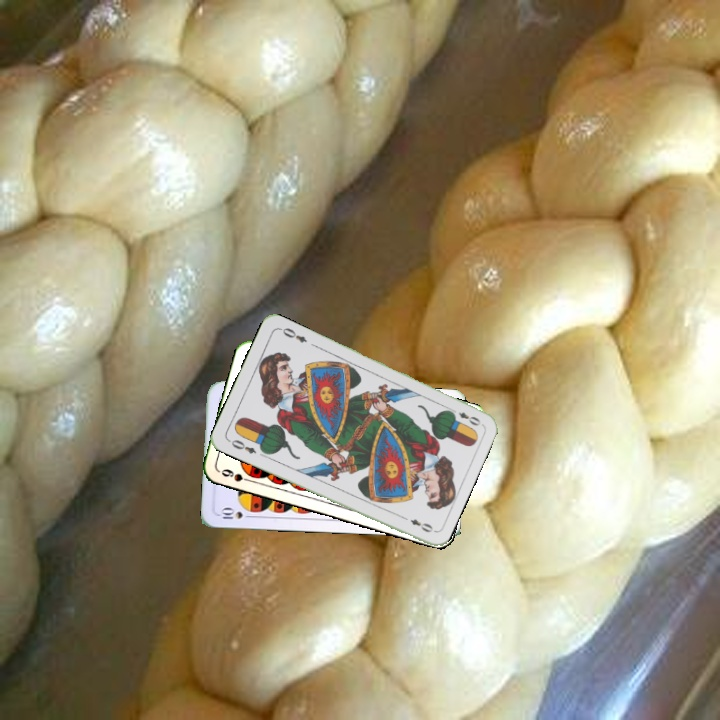EO: (445, 405, 483, 428), (224, 436, 259, 457)
S10: (217, 505, 256, 521)
S9: (217, 465, 256, 485)
